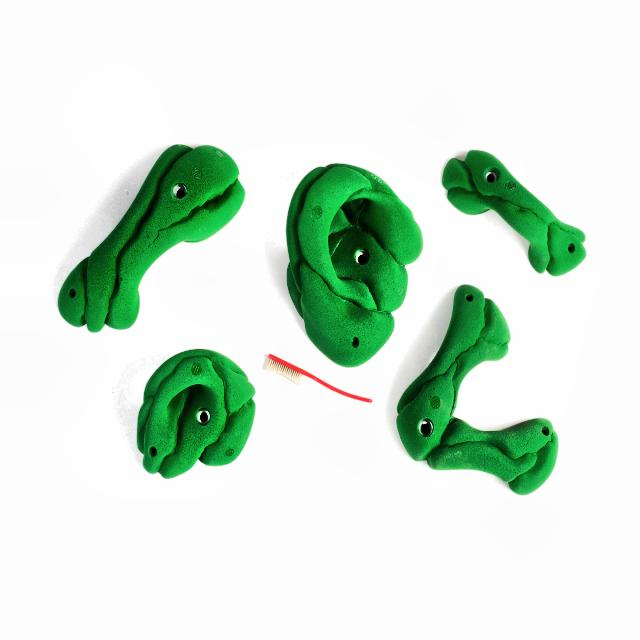Hold: (56, 132, 245, 325), (399, 286, 554, 480), (289, 156, 409, 361), (437, 145, 580, 274), (137, 347, 255, 481)
